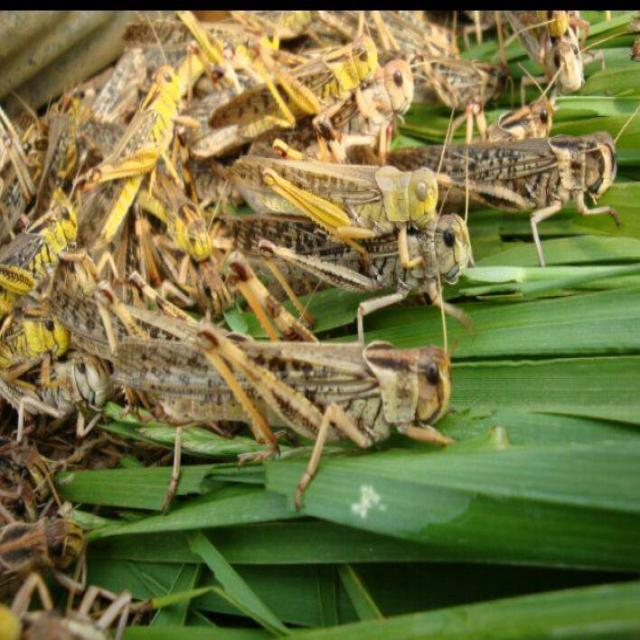ZhaMeng: (109, 332, 446, 454), (215, 208, 478, 314), (70, 57, 192, 262), (392, 115, 632, 216), (207, 32, 376, 134), (224, 159, 443, 234)
